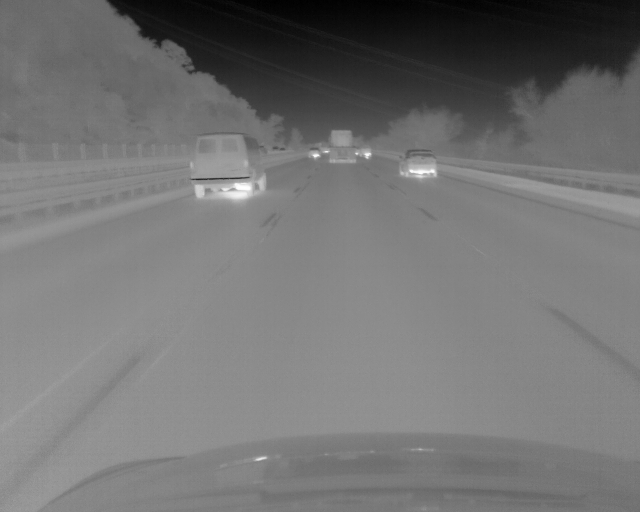car: (189, 133, 266, 196), (398, 150, 437, 179), (330, 130, 355, 164), (308, 147, 320, 159), (361, 146, 371, 158)
